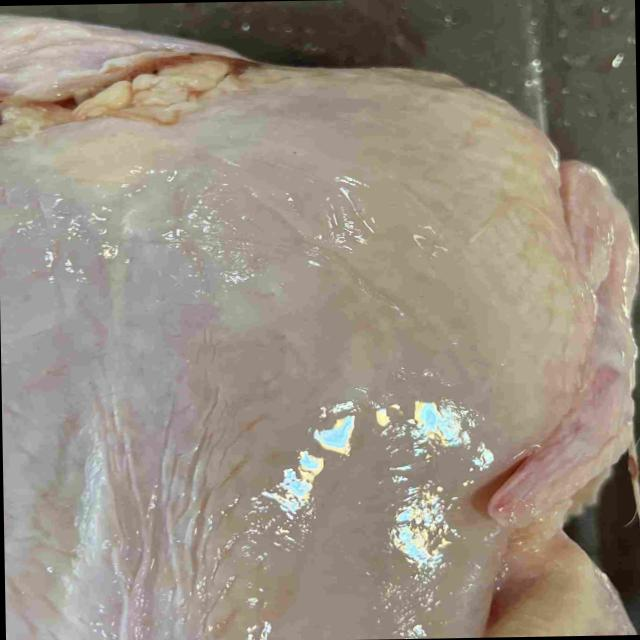breast: (0, 69, 587, 640)
